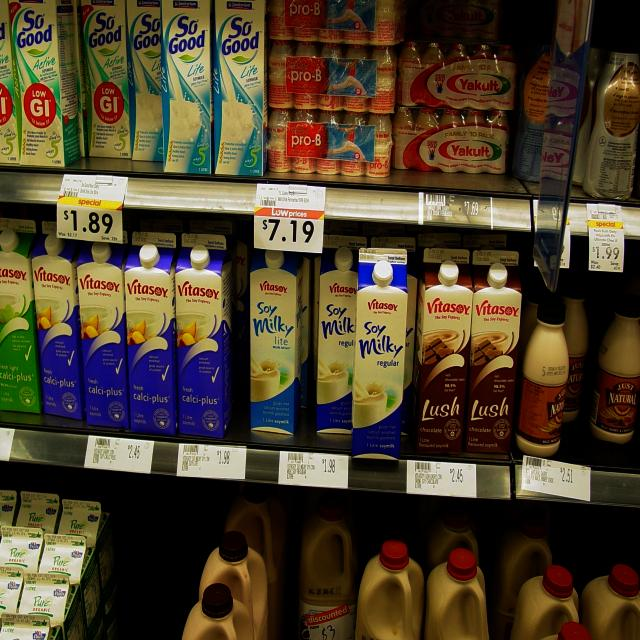empty_space: (118, 502, 182, 640)
